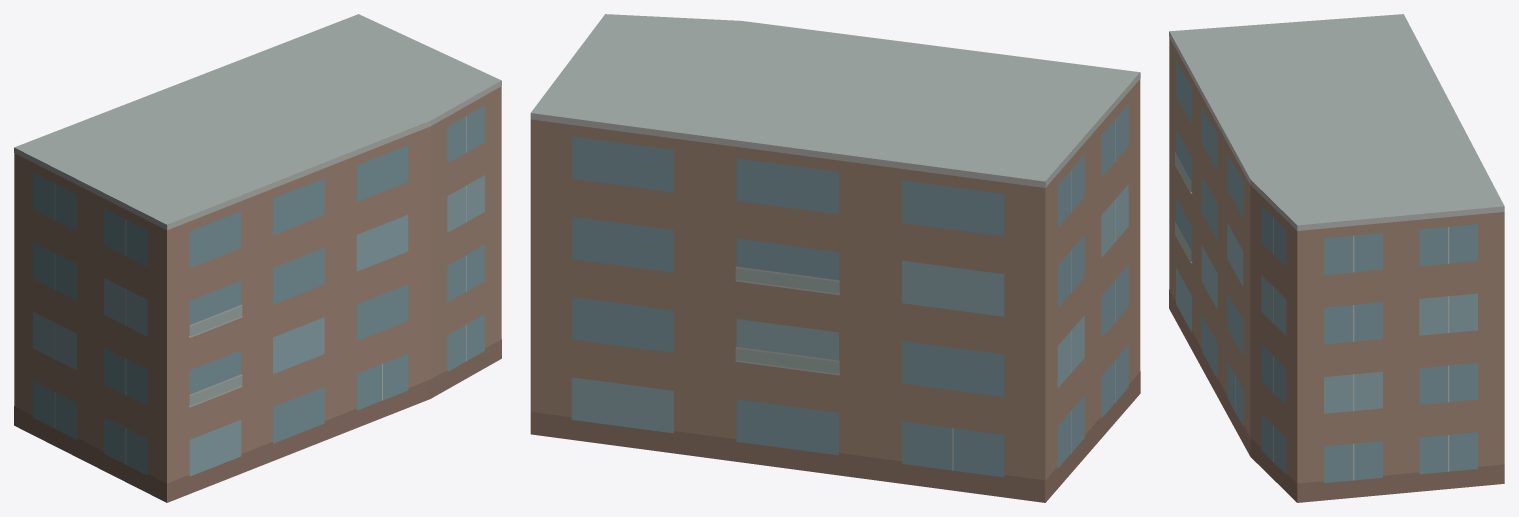
Rendered from survey-upis-33018437.glb.
3 renders of one model, left to right at view 1: azimuth 30°, elevation 25°; view 2: azimuth 150°, elevation 25°; view 3: azimuth 270°, elevation 25°, orthographic. The views are drawn at different scales.
Parts seen in each view (by area): view 1: survey-upis-33018437.tmp; view 2: survey-upis-33018437.tmp; view 3: survey-upis-33018437.tmp.
Part boxes in pixels (left/top/right/bottom): survey-upis-33018437.tmp: left=14, top=14, right=501, bottom=502; survey-upis-33018437.tmp: left=530, top=14, right=1140, bottom=502; survey-upis-33018437.tmp: left=1169, top=14, right=1504, bottom=502.
Size of the model in its own units: 19.95 by 12.2 by 13.38.
